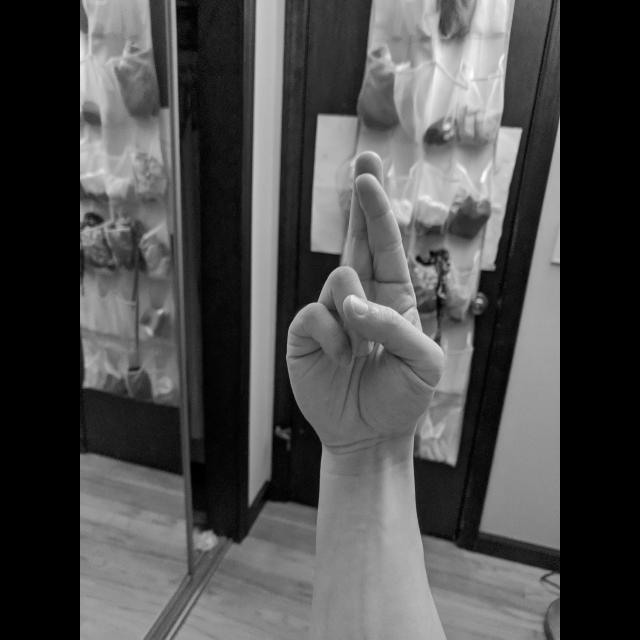R: (280, 145, 448, 457)
